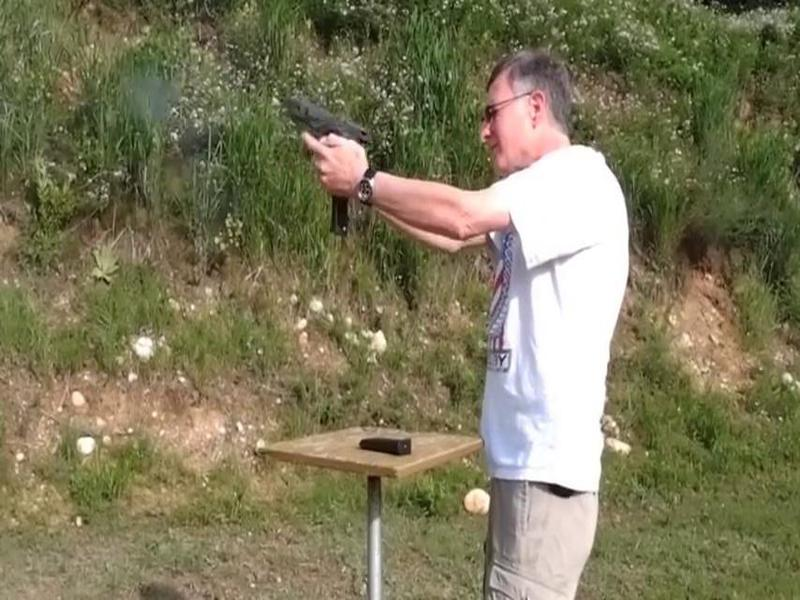Pistola: (270, 87, 382, 184)
